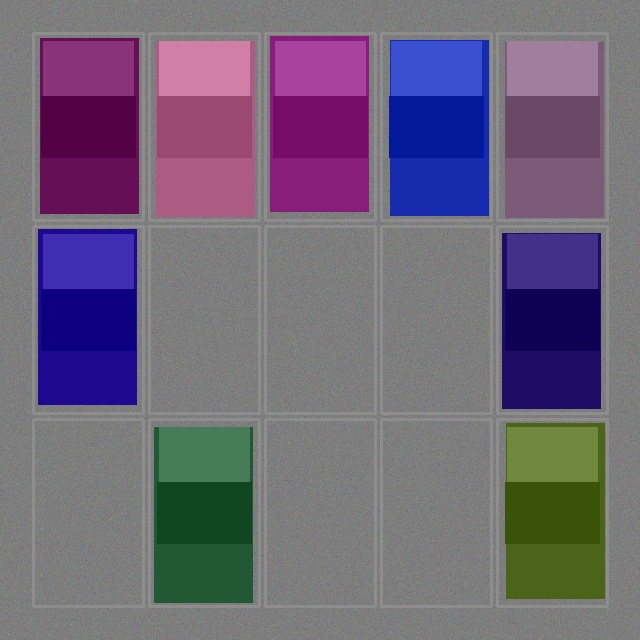space-empty: (151, 228, 257, 411), (267, 228, 373, 411), (383, 228, 489, 411), (35, 421, 141, 604), (267, 421, 373, 604), (383, 421, 489, 604)
space-occupied: (35, 35, 141, 218), (151, 35, 257, 218), (267, 35, 373, 218), (383, 35, 489, 218), (499, 35, 605, 218), (35, 228, 141, 411), (499, 228, 605, 411), (151, 421, 257, 604), (499, 421, 605, 604)
